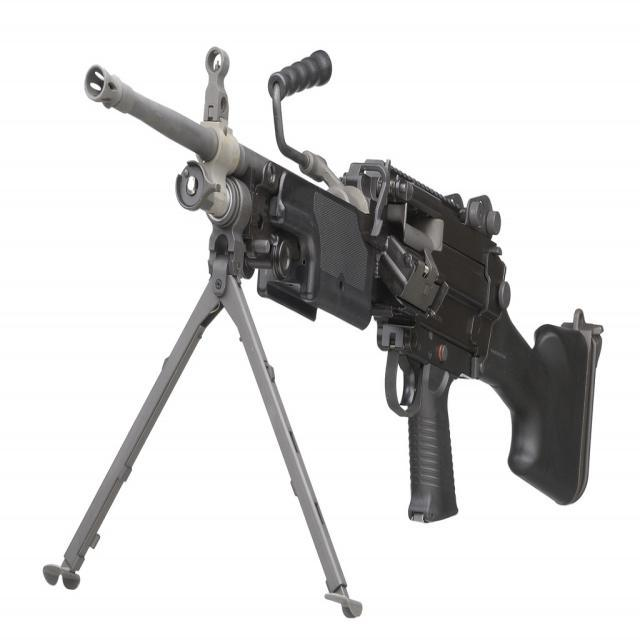weapon: (42, 46, 604, 619)
